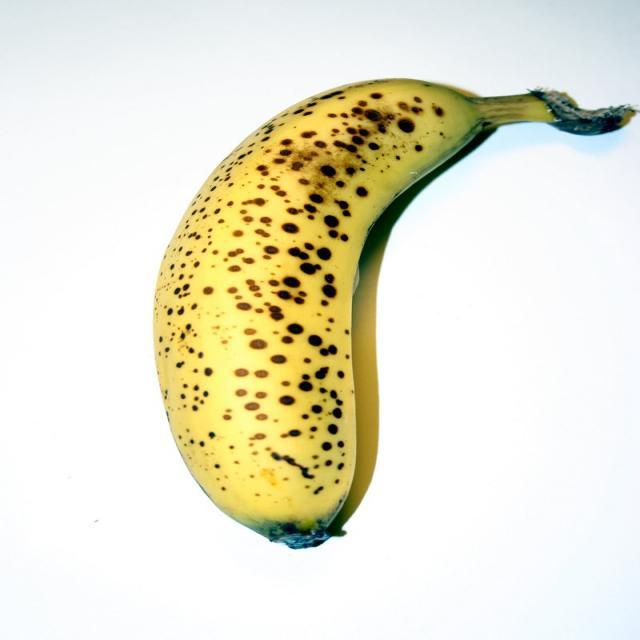Banana: (156, 79, 634, 551)
